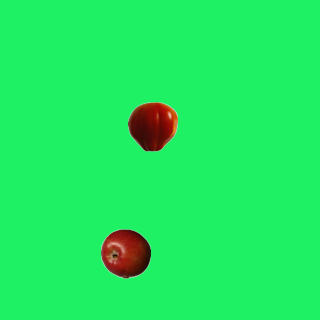Apple Braeburn: (100, 228, 150, 278)
Tomato 1: (127, 101, 177, 151)
